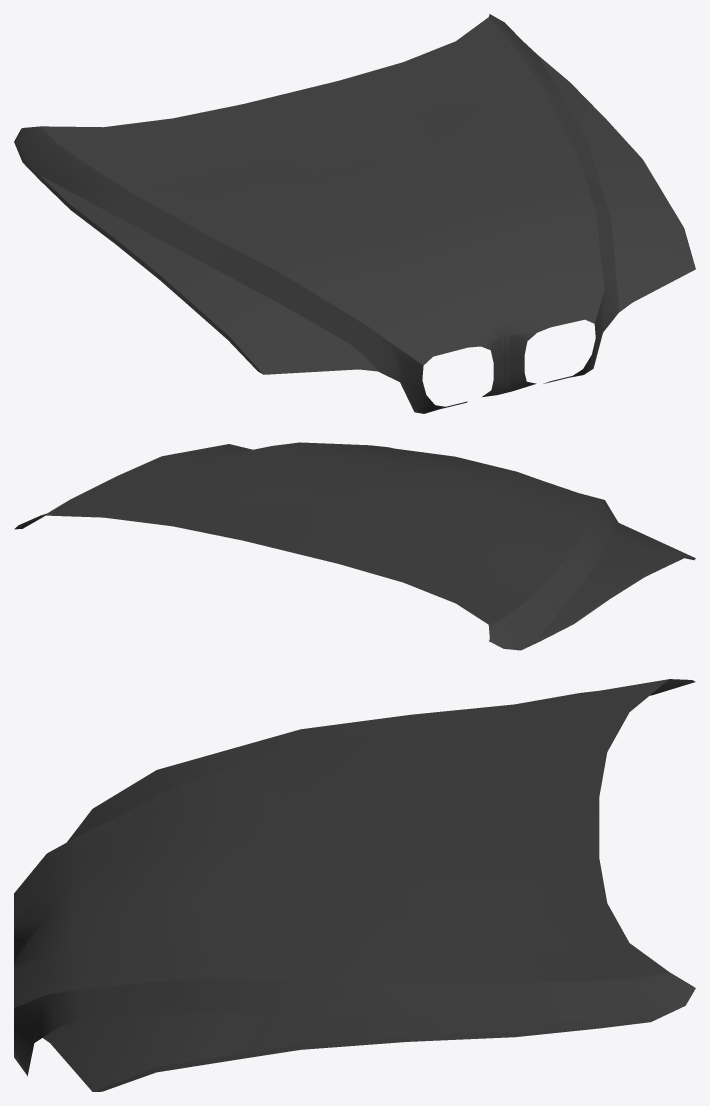
The model's file is Hood1.fbx.
3 renders of one model, top to bottom at view 1: azimuth 30°, elevation 25°; view 2: azimuth 150°, elevation 25°; view 3: azimuth 270°, elevation 25°, orthographic. The views are drawn at different scales.
Parts seen in each view (by area): view 1: CarColorObject.008; view 2: CarColorObject.008; view 3: CarColorObject.008.
Part boxes in pixels (box(x1,y1,x2,y2)): CarColorObject.008: box(14, 14, 695, 413); CarColorObject.008: box(14, 442, 695, 650); CarColorObject.008: box(14, 679, 695, 1091).
Bounding box in the file's own units: 174 × 48.85 × 152.
